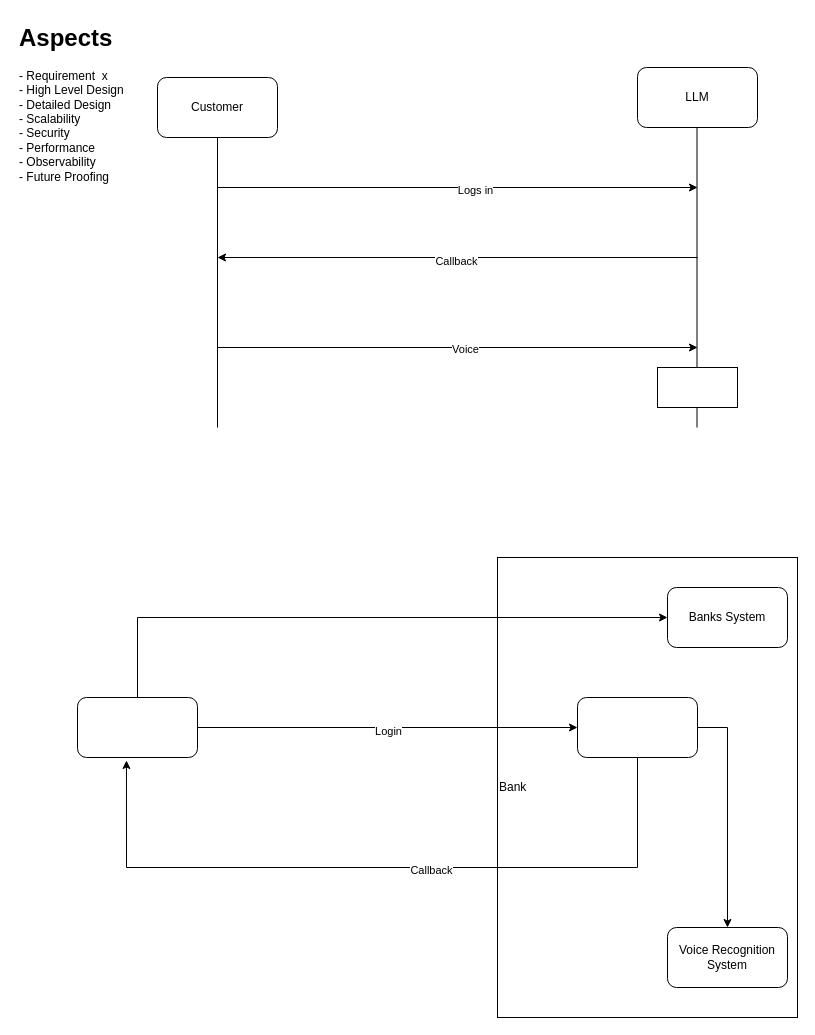
Image size: 815x1035. Some labels were removed from this diagram. The centre of each missing label's shape, as x and y in pixels:
Authorized: the point at 697,387
MFA System: the point at 637,727
User: the point at 137,727
